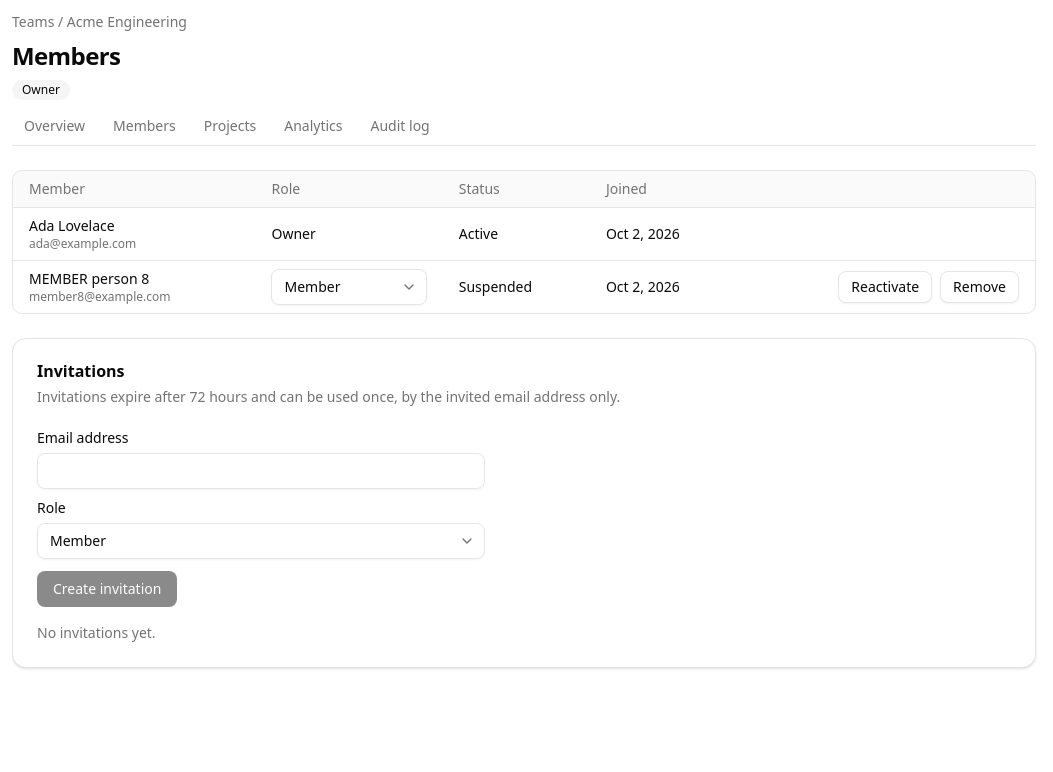
OrganizationMembers › explains a refused change with the server's error code
The image size is (1053, 772).
Click the button "Reactivate" at point(885, 287), box 838,271 -> 932,303
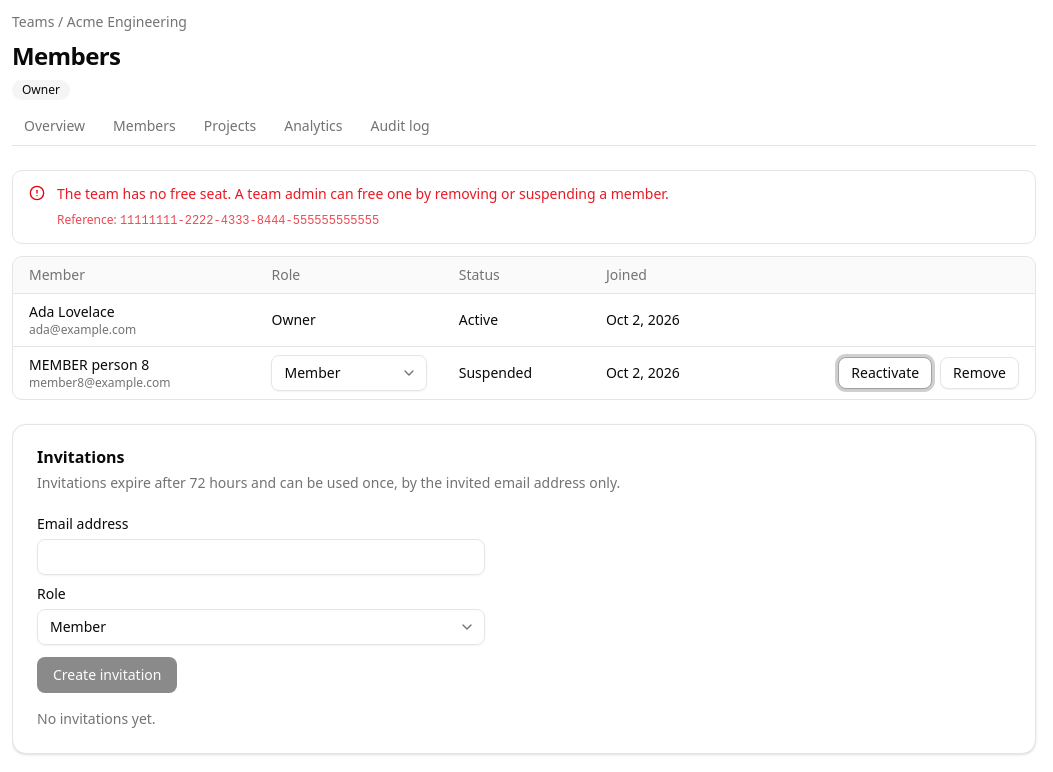
Expected: the text "no free seat" is shown, 57,184 -> 669,203
